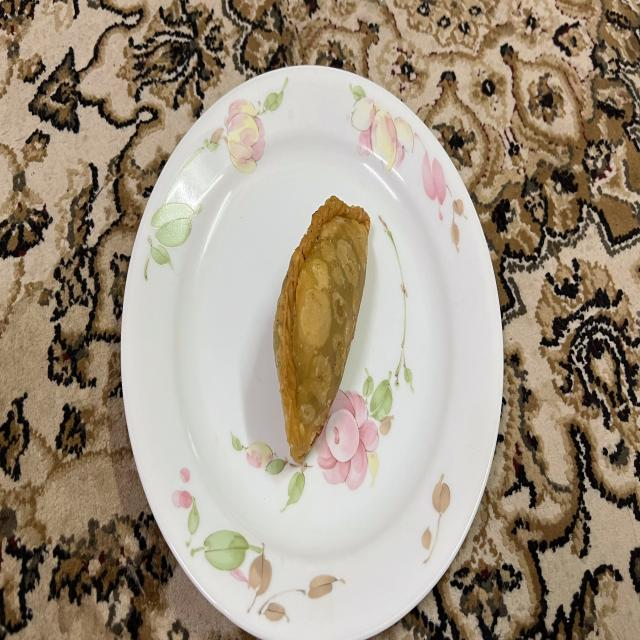karipap: (274, 196, 370, 462)
